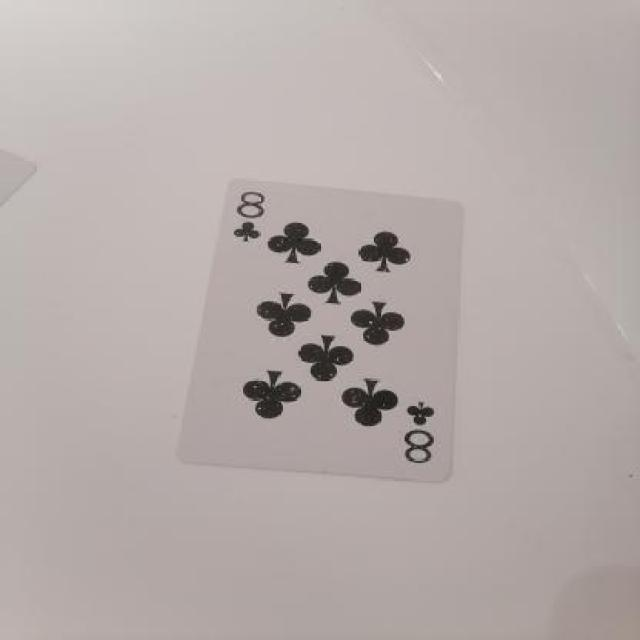8C: (394, 394, 458, 475), (216, 188, 284, 258)
